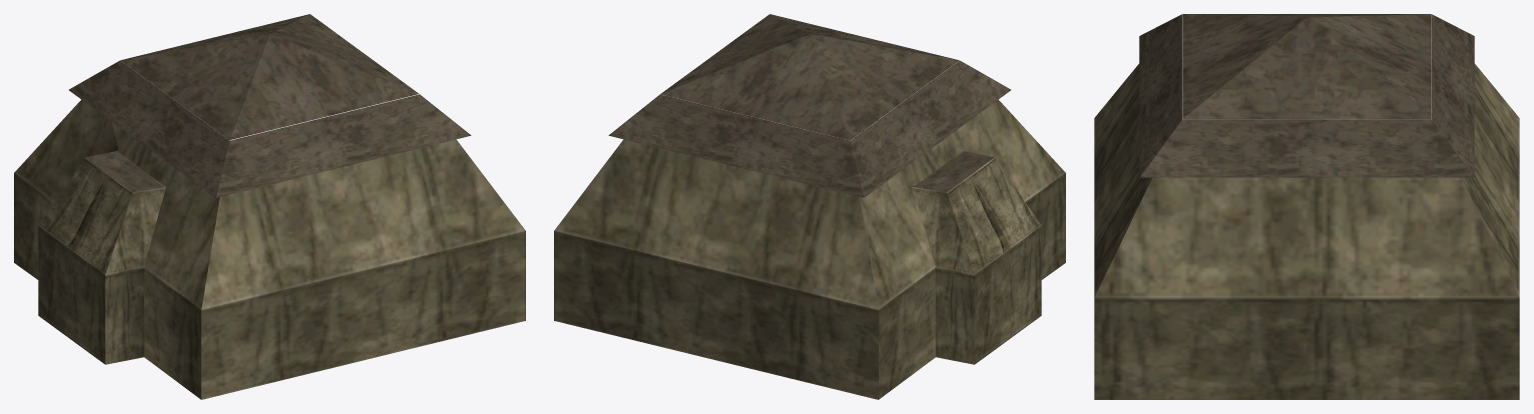
Rendered from eqp_camping_tent_s3_l2.fbx.
The picture shows the model from 3 angles, left to right: view 1: azimuth 30°, elevation 25°; view 2: azimuth 150°, elevation 25°; view 3: azimuth 270°, elevation 25°; orthographic projection. The views are drawn at different scales.
Visible parts, largest first — view 1: mesh_node; view 2: mesh_node; view 3: mesh_node.
Boxes of the visible parts, x1=… form: mesh_node: x1=14, y1=14, x2=525, y2=399; mesh_node: x1=554, y1=14, x2=1065, y2=399; mesh_node: x1=1094, y1=14, x2=1519, y2=399.
Bounding box in the file's own units: 6.22 × 4.25 × 5.6.
